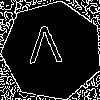V: (26, 25, 63, 73)
